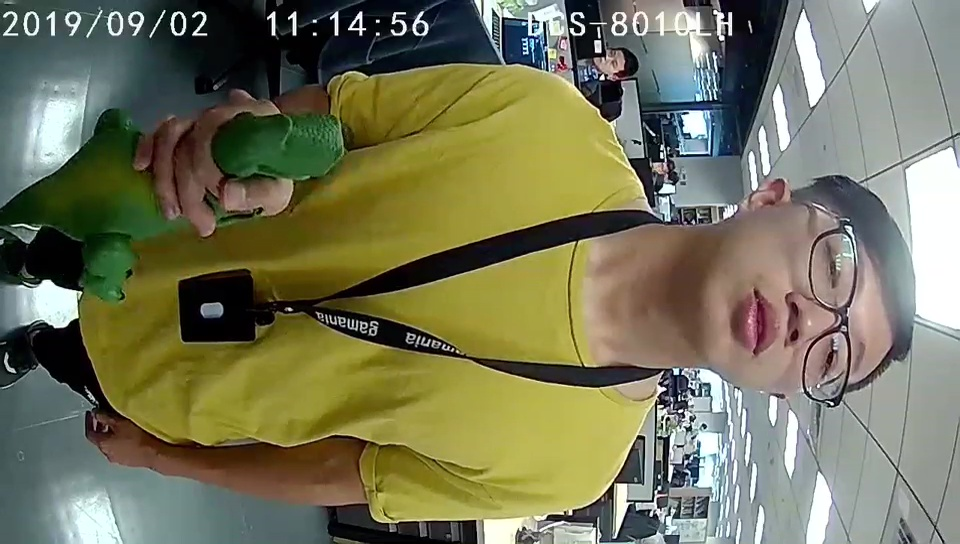rex: (69, 114, 341, 300)
